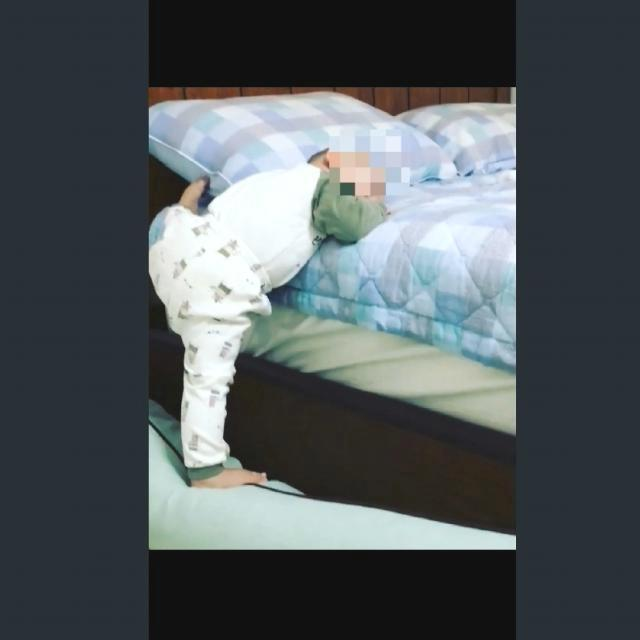child: (146, 149, 388, 496)
